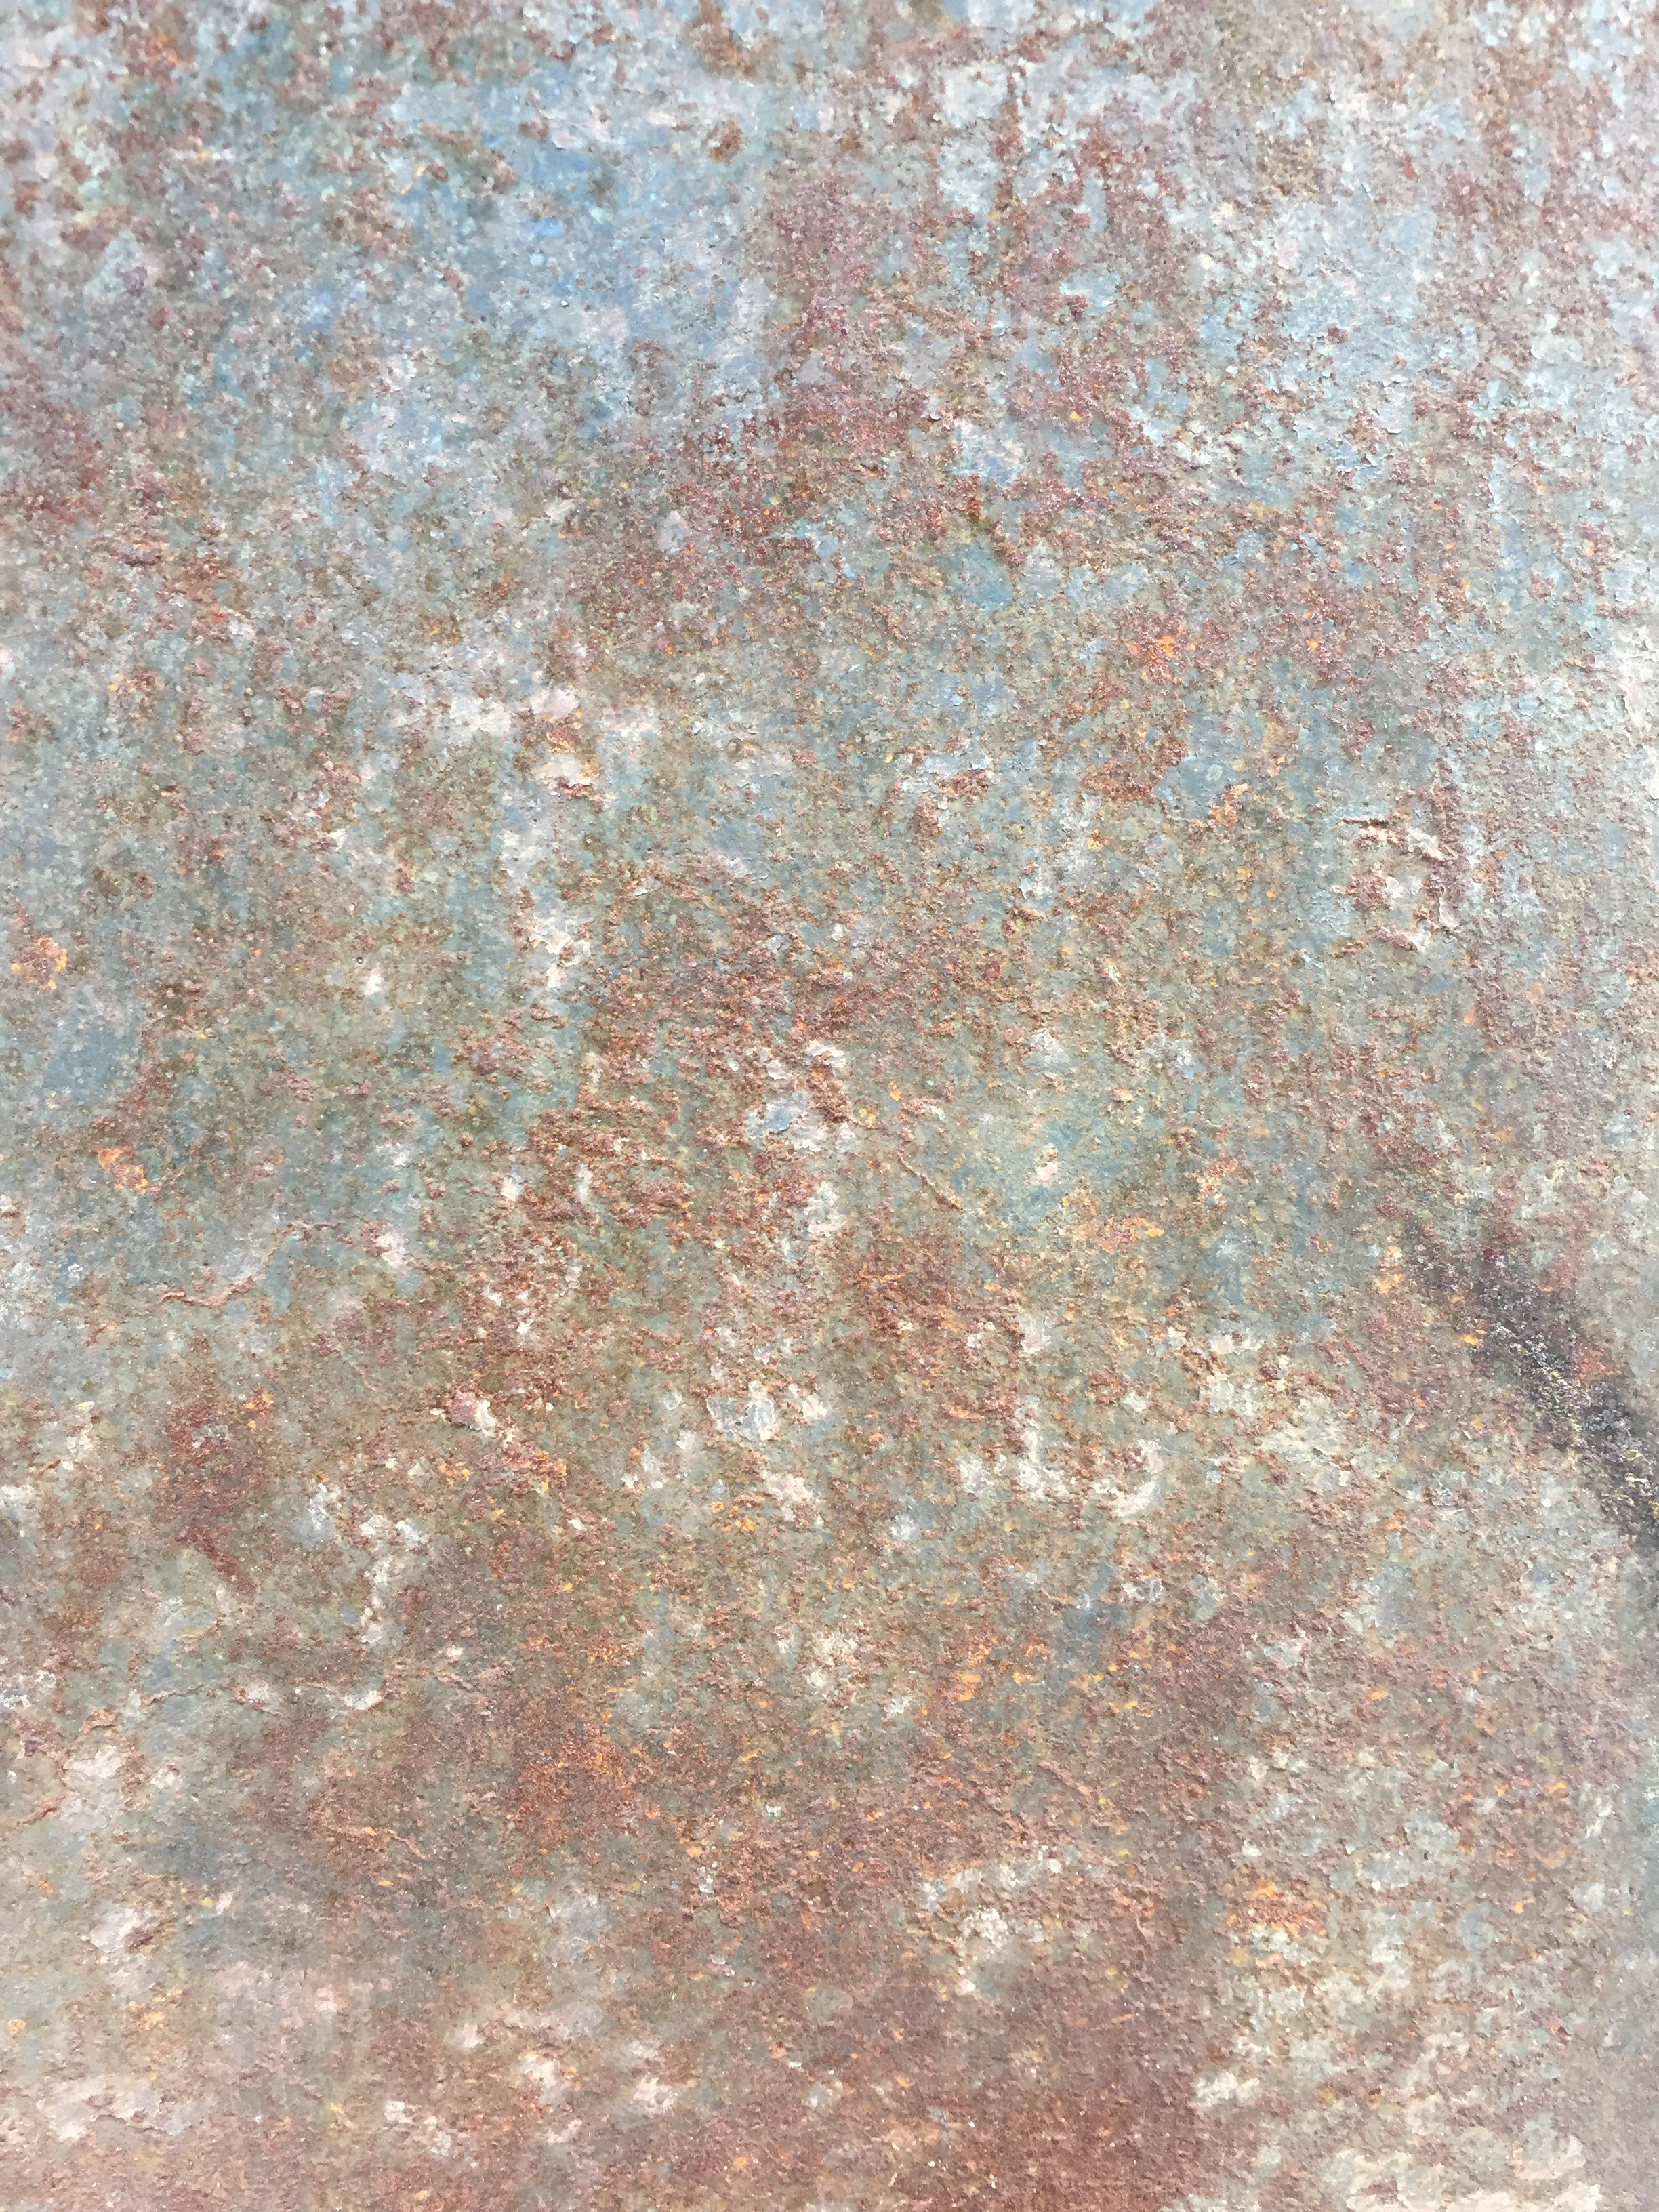rust: (246, 1324, 1263, 2209)
